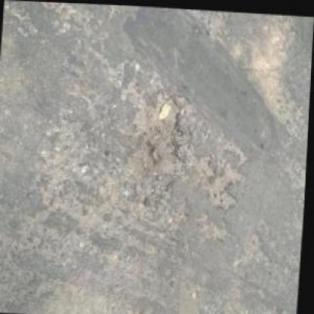Hueco: (126, 86, 194, 198), (194, 137, 248, 209)
